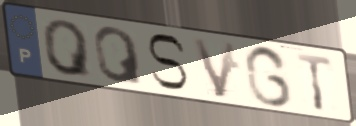G: (242, 44, 295, 109)
Q: (39, 19, 95, 80), (91, 25, 146, 87)
S: (144, 32, 191, 93)
T: (294, 51, 336, 114)
V: (189, 36, 239, 101)
